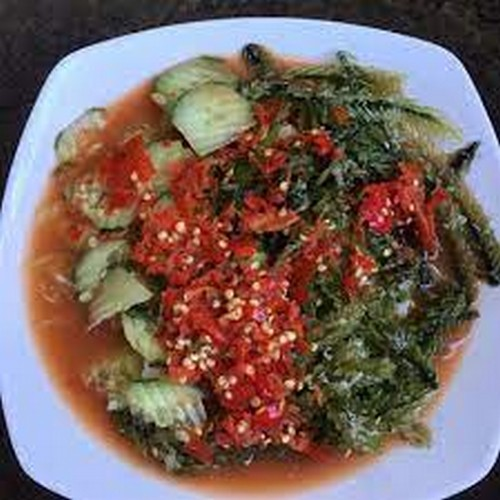bulung buni: (52, 46, 450, 460)
